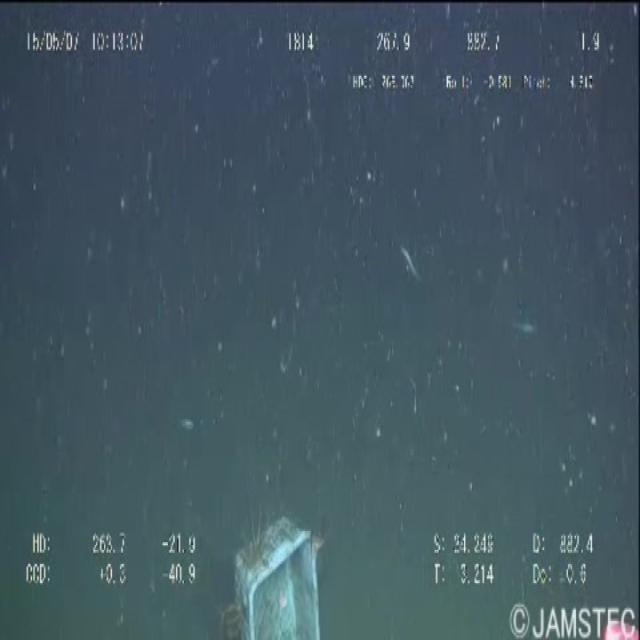Cutlery: (223, 518, 340, 639)
